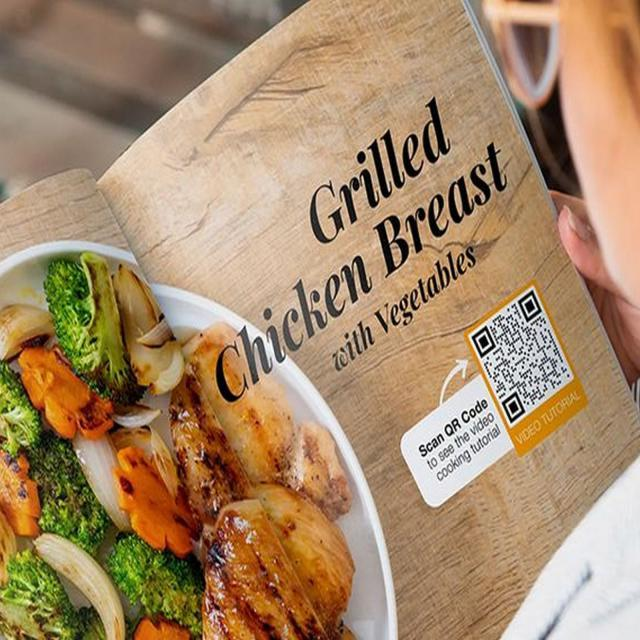qr_code: (470, 290, 571, 425)
